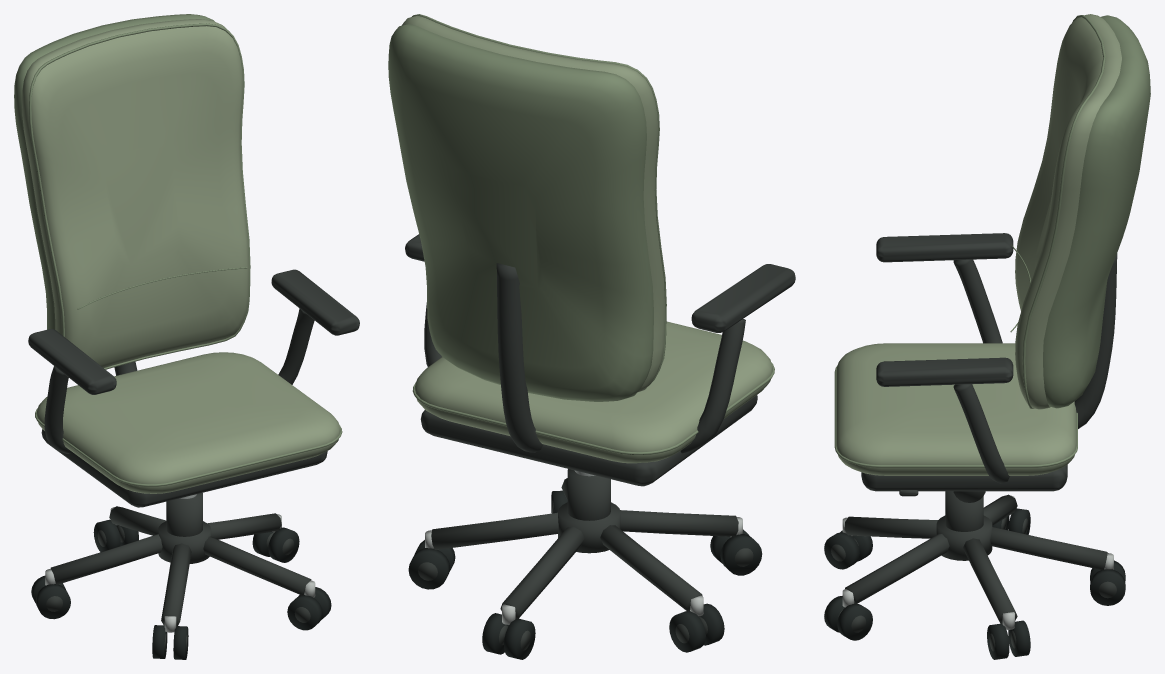
The model's file is furniture-chair.glb.
The picture shows the model from 3 angles, left to right: view 1: azimuth 30°, elevation 25°; view 2: azimuth 150°, elevation 25°; view 3: azimuth 270°, elevation 25°; orthographic projection. The views are drawn at different scales.
Visible parts, largest first — view 1: office_chair__studio_fabric_sage, office_chair__studio_charcoal_frame, office_chair__studio_fabric_sage_edge, office_chair__studio_rubber, office_chair__studio_brushed_steel; view 2: office_chair__studio_fabric_sage_edge, office_chair__studio_charcoal_frame, office_chair__studio_fabric_sage, office_chair__studio_rubber, office_chair__studio_brushed_steel; view 3: office_chair__studio_fabric_sage, office_chair__studio_charcoal_frame, office_chair__studio_fabric_sage_edge, office_chair__studio_rubber, office_chair__studio_brushed_steel.
Part boxes in pixels (x1,y1,x2,y2): office_chair__studio_fabric_sage: (22,19,340,493); office_chair__studio_charcoal_frame: (28,269,359,651); office_chair__studio_fabric_sage_edge: (14,14,342,486); office_chair__studio_rubber: (31,519,331,659); office_chair__studio_brushed_steel: (45,507,315,632); office_chair__studio_fabric_sage_edge: (388,14,774,454); office_chair__studio_charcoal_frame: (405,234,795,650); office_chair__studio_fabric_sage: (402,15,772,463); office_chair__studio_rubber: (408,490,762,659); office_chair__studio_brushed_steel: (425,478,742,624); office_chair__studio_fabric_sage: (836,14,1121,475); office_chair__studio_charcoal_frame: (831,233,1117,651); office_chair__studio_fabric_sage_edge: (834,15,1150,467); office_chair__studio_rubber: (824,508,1125,659); office_chair__studio_brushed_steel: (842,495,1113,629).
Size of the model in its own units: 0.651 by 1.18 by 0.6452.
